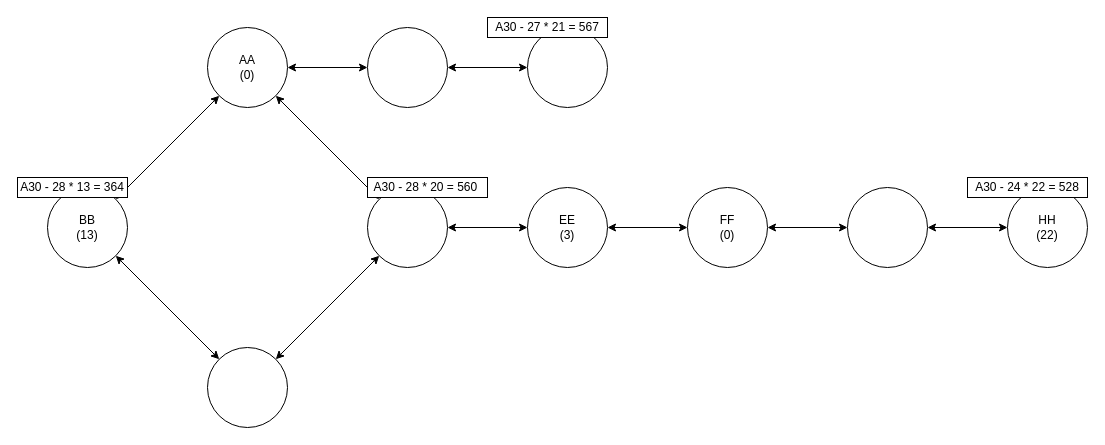
The diagram is 1105 pixels wide and 445 high, and some of its shapes have lost their labels. The shapes that lost their labels are listed below. From the top down, each one's box as (x1, y1, x2, y2) in pixels, then its label:
(366, 26, 448, 108): II (0)
(526, 26, 608, 108): JJ (21)
(366, 186, 448, 268): DD (20)
(846, 186, 928, 268): GG (0)
(206, 346, 288, 428): CC (2)
